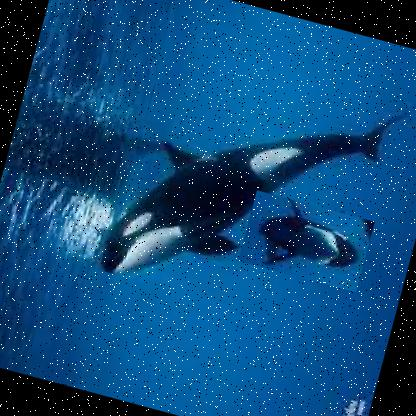killer_whale: (83, 32, 415, 337), (238, 187, 376, 290)
